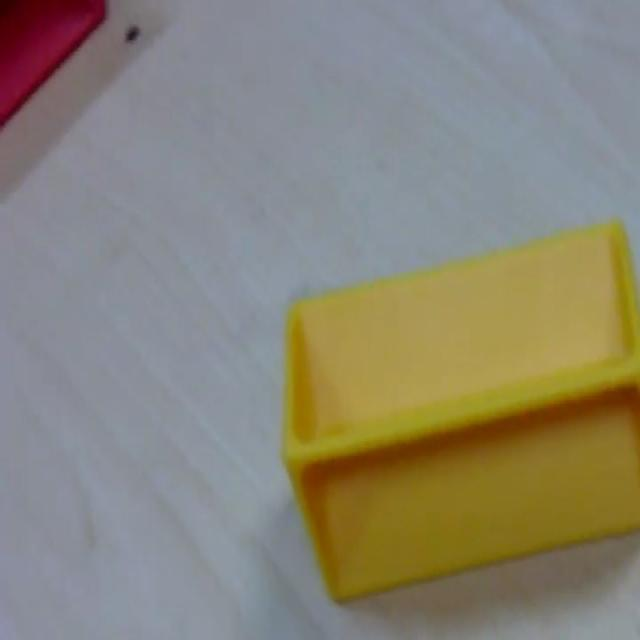yellow_block: (280, 216, 638, 603)
